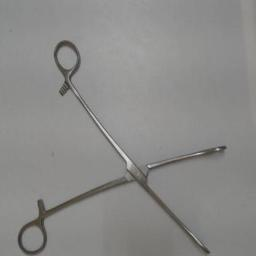Sponge Forceps: (18, 36, 230, 256)
